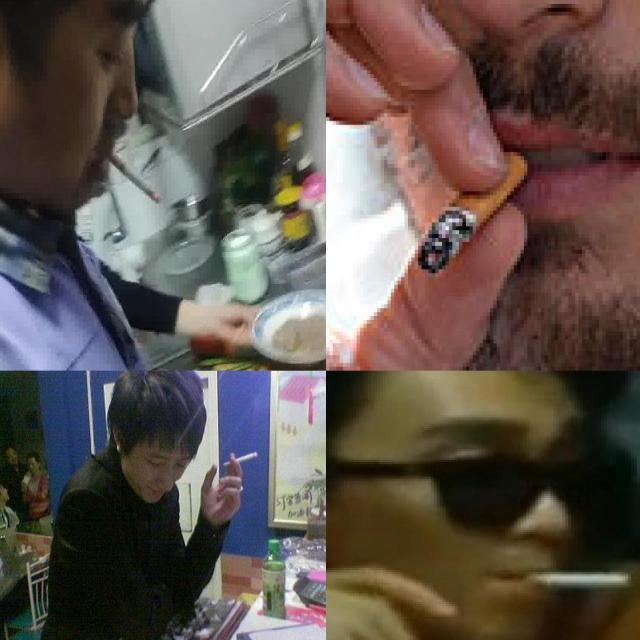smoking: (416, 150, 528, 276), (106, 148, 160, 204), (514, 572, 634, 592), (223, 452, 258, 469)
